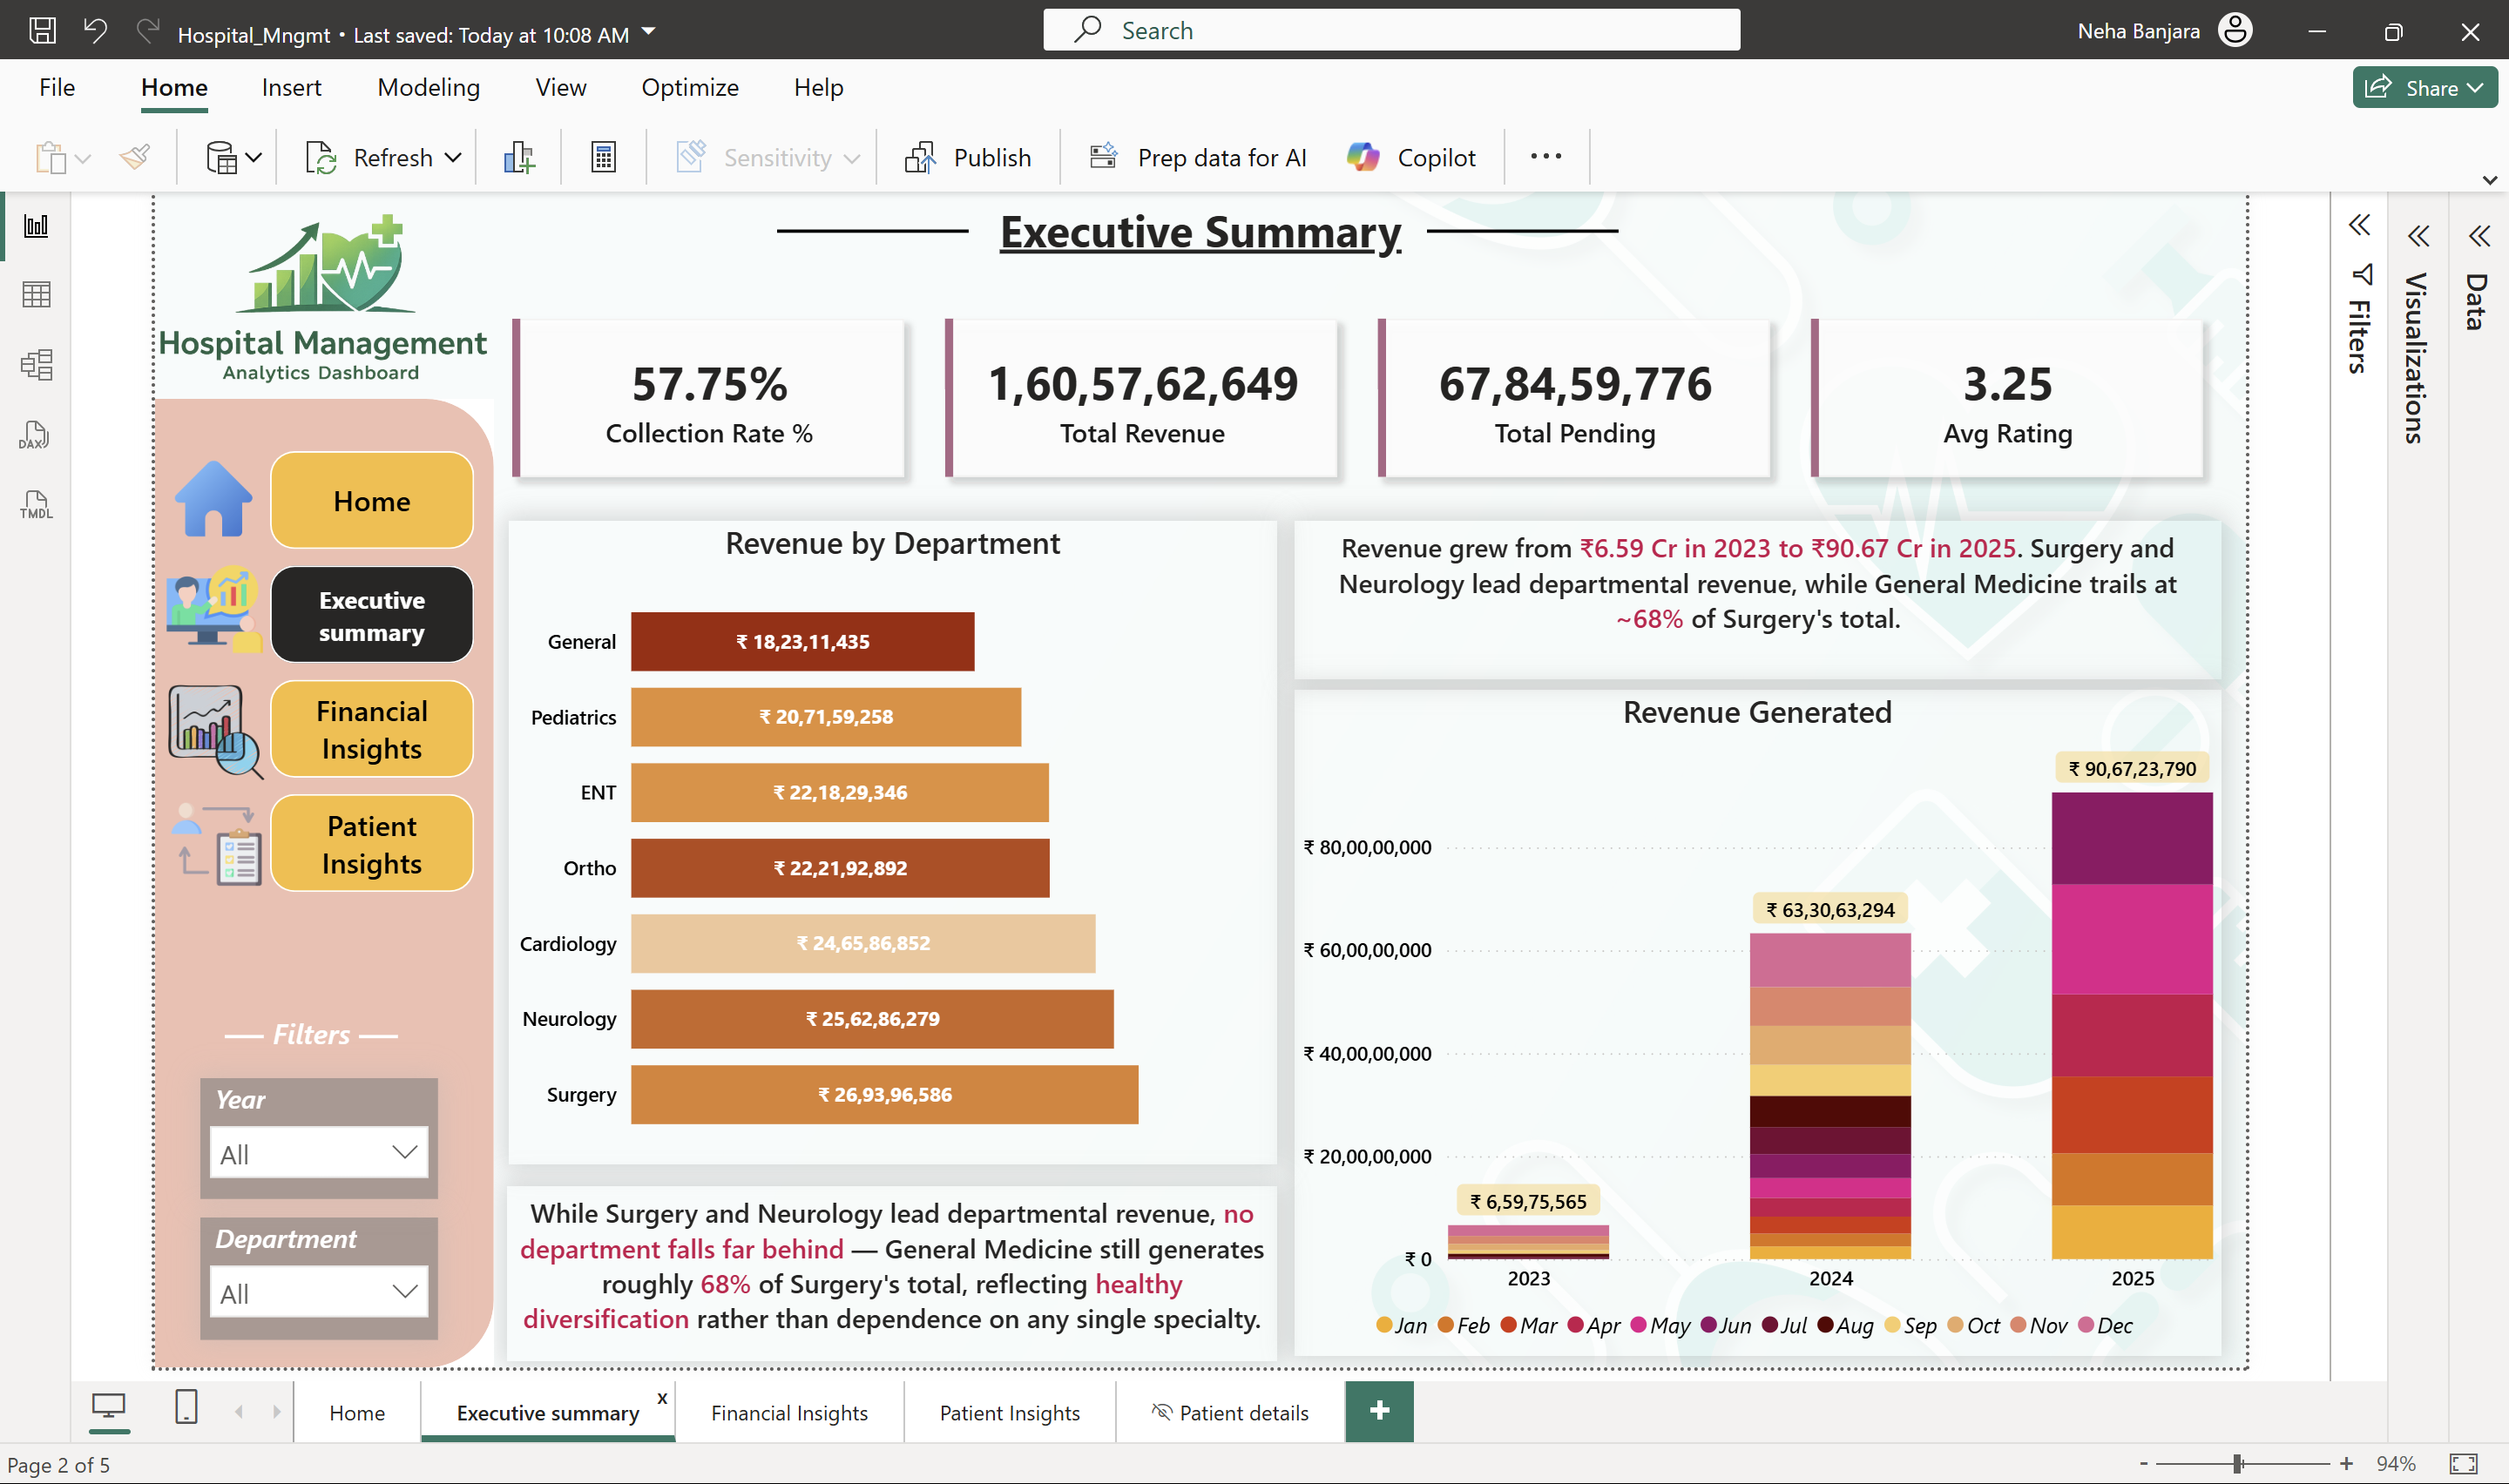

The dashboard page shown, as its layout file describes it:
{"tool":"powerbi","page":{"name":"Executive summary","canvas":[1280,720],"ordinal":1},"visuals":[{"type":"shape","box":[0,126.7,207.4,593.3],"z":0,"group":"g3"},{"type":"clusteredBarChart","title":"Revenue by Department","fields":{"Category":["hospital_management.Department"],"Y":["Measures_table.Total Revenue"]},"box":[216.7,201.4,470.4,393.9],"z":0},{"type":"textbox","box":[697.4,201.4,567.3,96.9],"z":1000},{"type":"slicer","fields":{"Values":["hospital_management.AgeGroup"]},"box":[27.4,627.8,145.4,74.9],"z":1000,"group":"g3"},{"type":"cardVisual","fields":{"Data":["Measures_table.Collection Rate %","Measures_table.Total Revenue","Measures_table.Total Pending","Avg(hospital_management.FeedbackRating)"]},"box":[201.4,61.2,1069.6,131.3],"z":2000},{"type":"textbox","box":[293.2,0,693.5,72.7],"z":3000},{"type":"group","id":"g1","title":"Group 1","box":[19.8,498.2,151.3,38.7],"z":3000,"group":"g3"},{"type":"group","id":"g2","title":"Group 2","box":[1.4,158.4,194.4,270.7],"z":4000,"group":"g3"},{"type":"lineStackedColumnComboChart","title":"Revenue Generated","fields":{"Series":["DimDate.MonthName"],"Y":["Measures_table.Total Revenue"],"Category":["DimDate.Year"]},"box":[697.4,304.7,567.3,408],"z":4000},{"type":"textbox","box":[215.5,609.4,471.7,107.1],"z":5000},{"type":"shape","box":[779,0,117.3,48.4],"z":6000},{"type":"shape","box":[381.2,0,117.3,48.4],"z":7000},{"type":"image","box":[0,0,207.8,127.5],"z":8000},{"type":"shape","box":[19.8,501.6,151.3,28.4],"z":8000,"group":"g1"},{"type":"slicer","fields":{"Values":["DimDate.Year"]},"box":[28,543.1,145.3,73.9],"z":8001,"group":"g3"},{"type":"group","id":"g3","title":"Group 3","box":[0,126.7,207.4,593.3],"z":9000},{"type":"pageNavigator","box":[70.5,158.4,125.3,270.7],"z":13000,"group":"g2"},{"type":"image","box":[1.4,226.1,70.6,59],"z":14000,"group":"g2"},{"type":"image","box":[2.8,164.2,67.7,47.5],"z":15000,"group":"g2"},{"type":"image","box":[2.8,370.1,70.6,59],"z":16000,"group":"g2"},{"type":"image","box":[2.8,301,70.6,59],"z":17000,"group":"g2"},{"type":"shape","box":[124.4,498.2,23.9,38.7],"z":19000,"group":"g1"},{"type":"shape","box":[42.5,498.2,23.9,38.7],"z":20000,"group":"g1"}]}

Visuals, with their boxes on the page's 1280x720 design canvas (x1, y1, x2, y2). These are canvas units, not pixel positions in the 2509x1484 screenshot, which may show the page scaled, cropped or inside an application window:
shape: 0,127,207,720
"Revenue by Department" clusteredBarChart: 217,201,687,595
textbox: 697,201,1265,298
slicer - hospital_management.AgeGroup: 27,628,173,703
cardVisual - Measures_table.Collection Rate % x Measures_table.Total Revenue: 201,61,1271,192
textbox: 293,0,987,73
"Group 1" group: 20,498,171,537
"Group 2" group: 1,158,196,429
"Revenue Generated" lineStackedColumnComboChart: 697,305,1265,713
textbox: 216,609,687,716
shape: 779,0,896,48
shape: 381,0,498,48
image: 0,0,208,128
shape: 20,502,171,530
slicer - DimDate.Year: 28,543,173,617
"Group 3" group: 0,127,207,720
pageNavigator: 70,158,196,429
image: 1,226,72,285
image: 3,164,70,212
image: 3,370,73,429
image: 3,301,73,360
shape: 124,498,148,537
shape: 42,498,66,537
